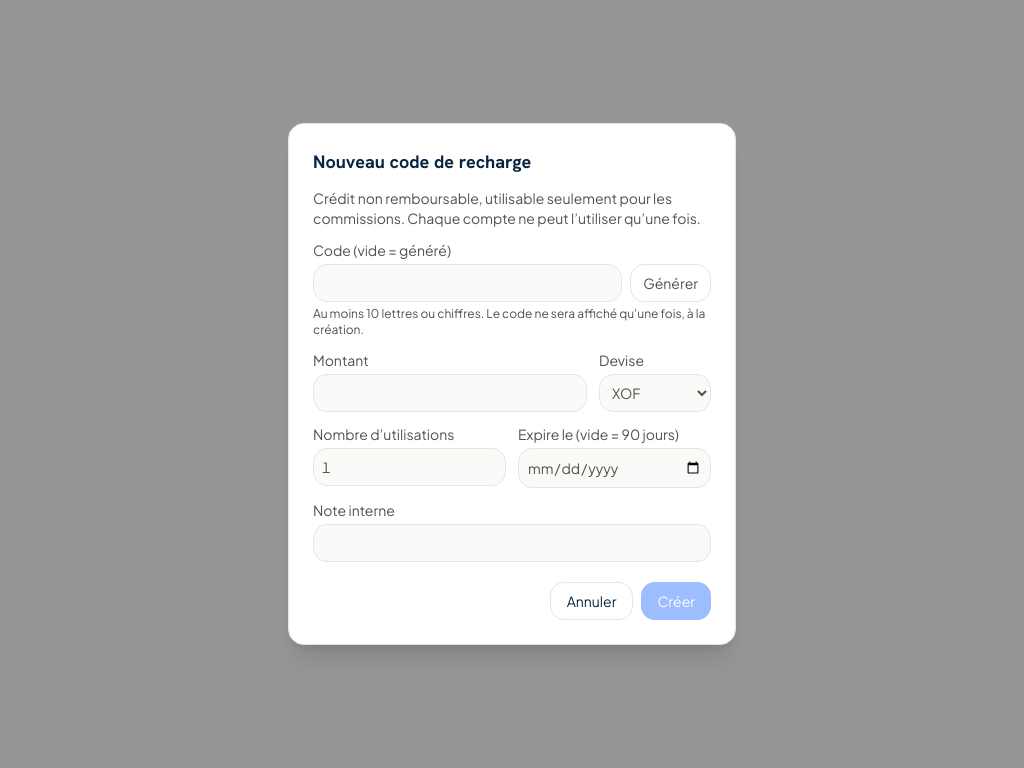
Test case: TopupCodeForm › le bouton Générer remplit le champ code
Click the button with test id "topup-generate" at (671, 283), box x1=630 y1=264 x2=711 y2=302
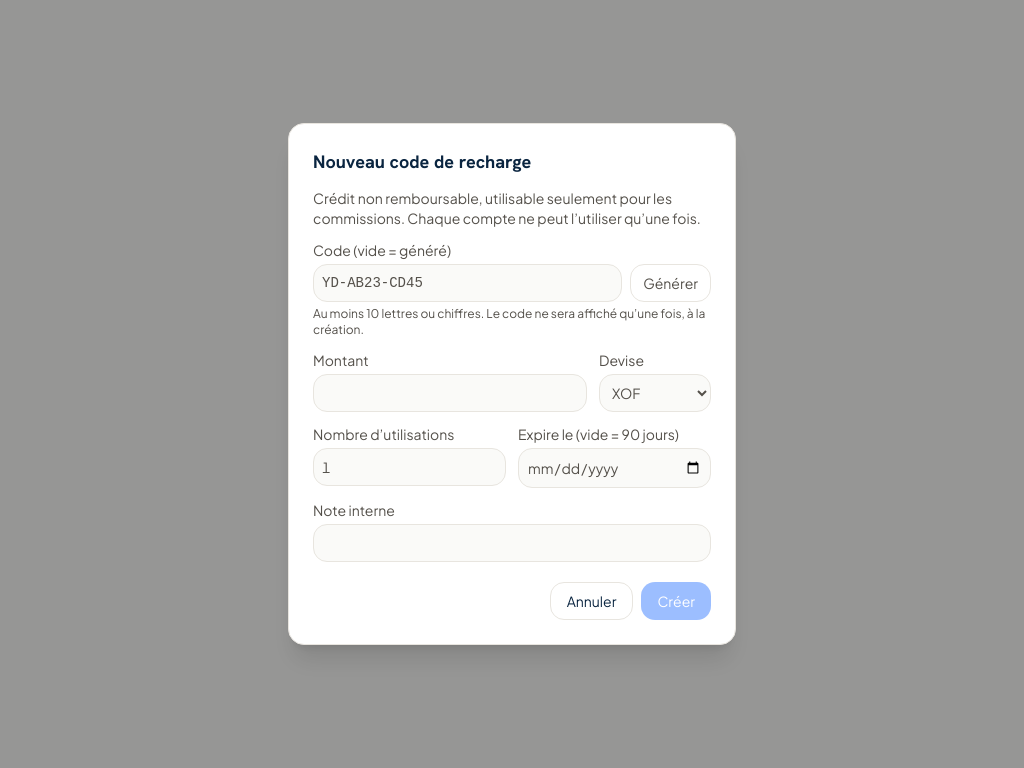
Expected: the field with test id "topup-code" holds "YD-AB23-CD45", x1=313 y1=264 x2=622 y2=302
